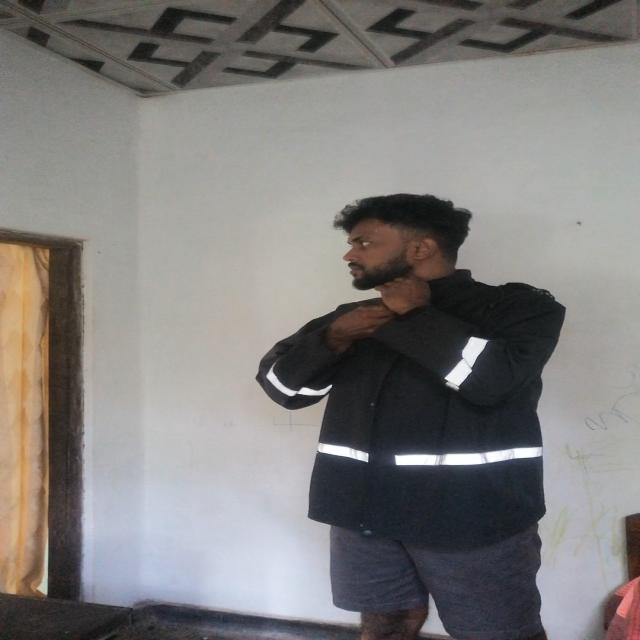Jacket_Wearer: (262, 274, 584, 534)
